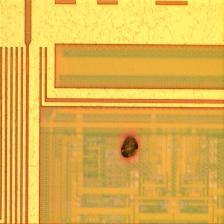PARTICLE: (116, 129, 144, 165)
